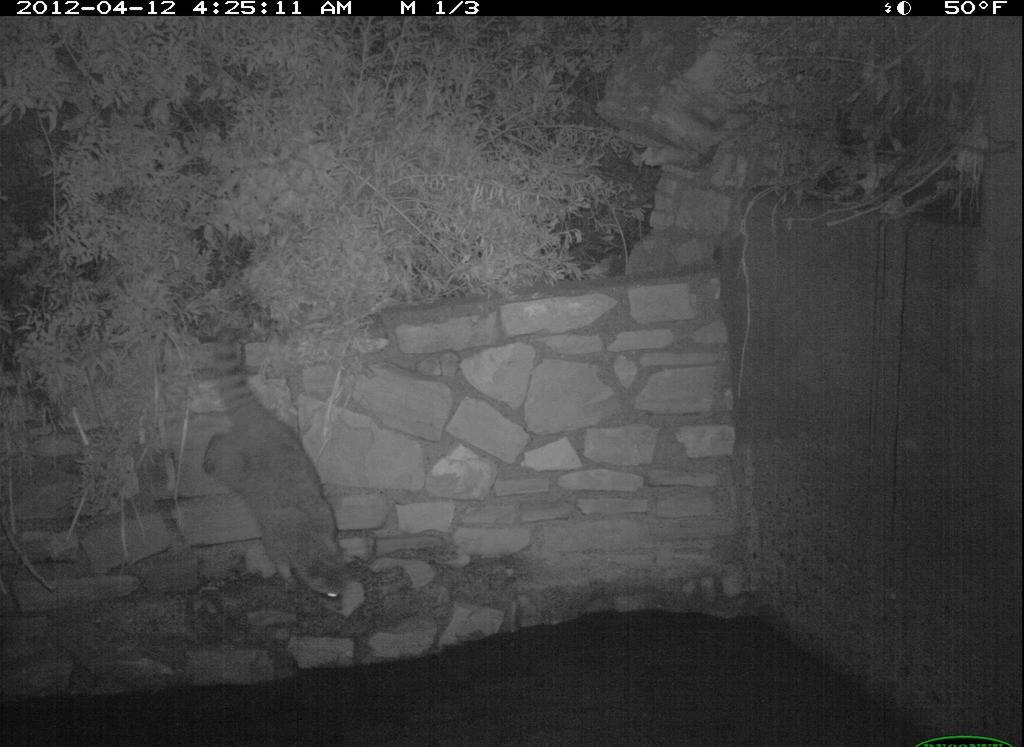raccoon: (190, 312, 379, 614)
